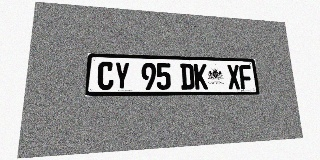5: (156, 63, 171, 90)
9: (142, 62, 156, 90)
C: (97, 61, 114, 90)
D: (180, 63, 195, 90)
F: (239, 65, 253, 89)
K: (194, 64, 208, 90)
X: (227, 65, 241, 89)
Y: (114, 62, 130, 90)
